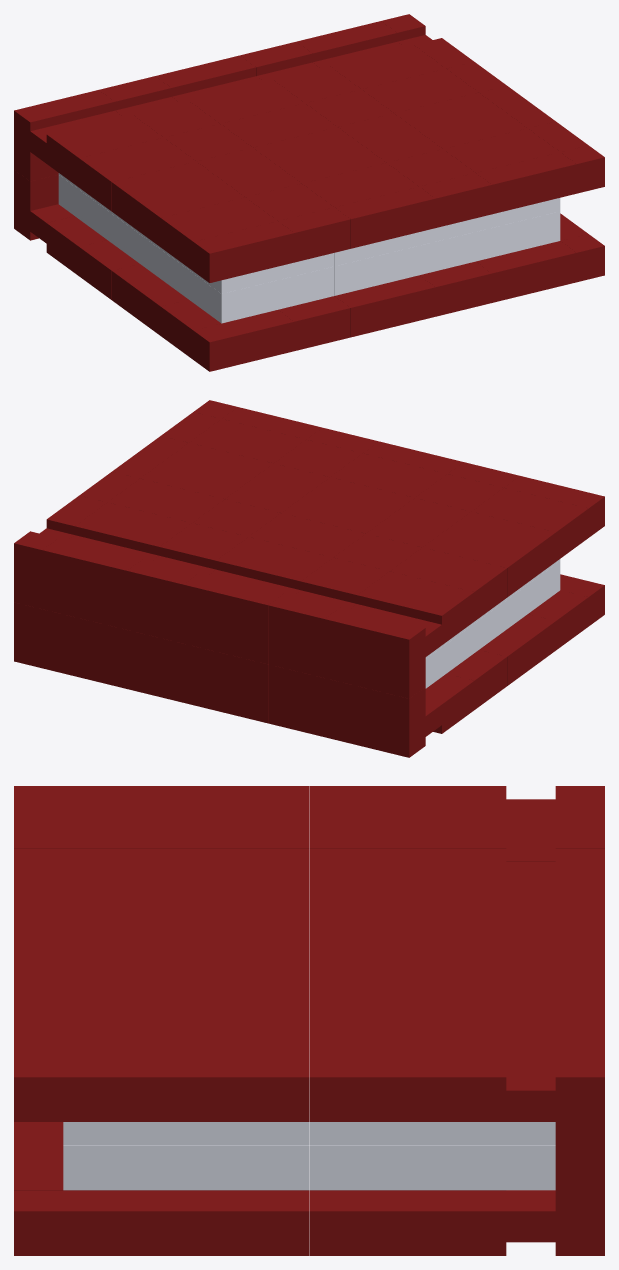
Rendered from Book1.fbx.
The picture shows the model from 3 angles, top to bottom: view 1: azimuth 30°, elevation 25°; view 2: azimuth 150°, elevation 25°; view 3: azimuth 270°, elevation 25°; orthographic projection. The views are drawn at different scales.
Visible parts, largest first — view 1: mergedBlocks; view 2: mergedBlocks; view 3: mergedBlocks.
Part boxes in pixels (x1,y1,x2,y2): mergedBlocks: (14, 14, 604, 371); mergedBlocks: (14, 400, 604, 757); mergedBlocks: (14, 786, 604, 1255).
Size of the model in its own units: 7.26 by 2.07 by 6.22.
